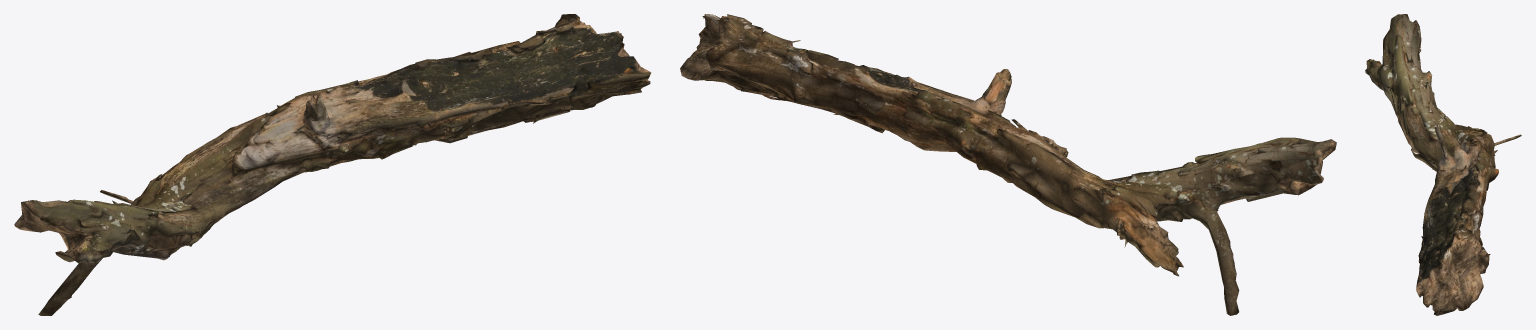
The model's file is ph-dead_tree_trunk_02.glb.
3 views of the same model, side by side, from view 1: azimuth 30°, elevation 25°; view 2: azimuth 150°, elevation 25°; view 3: azimuth 270°, elevation 25° (orthographic). The views are drawn at different scales.
Visible parts, largest first — view 1: dead_tree_trunk_02; view 2: dead_tree_trunk_02; view 3: dead_tree_trunk_02.
Boxes of the visible parts, x1=… form: dead_tree_trunk_02: x1=14, y1=14, x2=651, y2=315; dead_tree_trunk_02: x1=680, y1=14, x2=1336, y2=315; dead_tree_trunk_02: x1=1365, y1=14, x2=1521, y2=315.
Bounding box in the file's own units: 4.05 × 1.05 × 1.05.
1 material, 1 textured.
